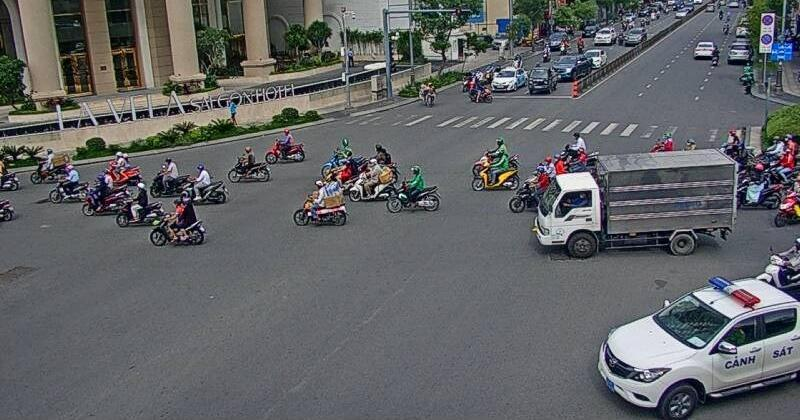xe hoi: (597, 278, 798, 417), (534, 148, 737, 260)
xe may: (150, 196, 209, 245), (387, 164, 441, 213), (472, 139, 520, 190), (81, 167, 131, 215), (295, 180, 348, 225), (115, 180, 163, 226), (347, 158, 395, 202), (179, 163, 228, 203), (149, 155, 194, 197), (227, 145, 271, 184), (48, 163, 89, 202), (264, 128, 304, 166), (100, 151, 143, 186), (30, 147, 71, 183)
